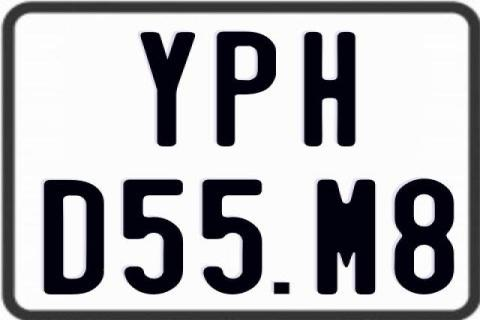0: (121, 178, 186, 294), (393, 178, 455, 298), (200, 179, 260, 299)
D: (44, 180, 104, 298)
H: (303, 32, 359, 148)
M: (314, 179, 372, 296)
P: (215, 31, 274, 148)
Y: (140, 29, 201, 145)
